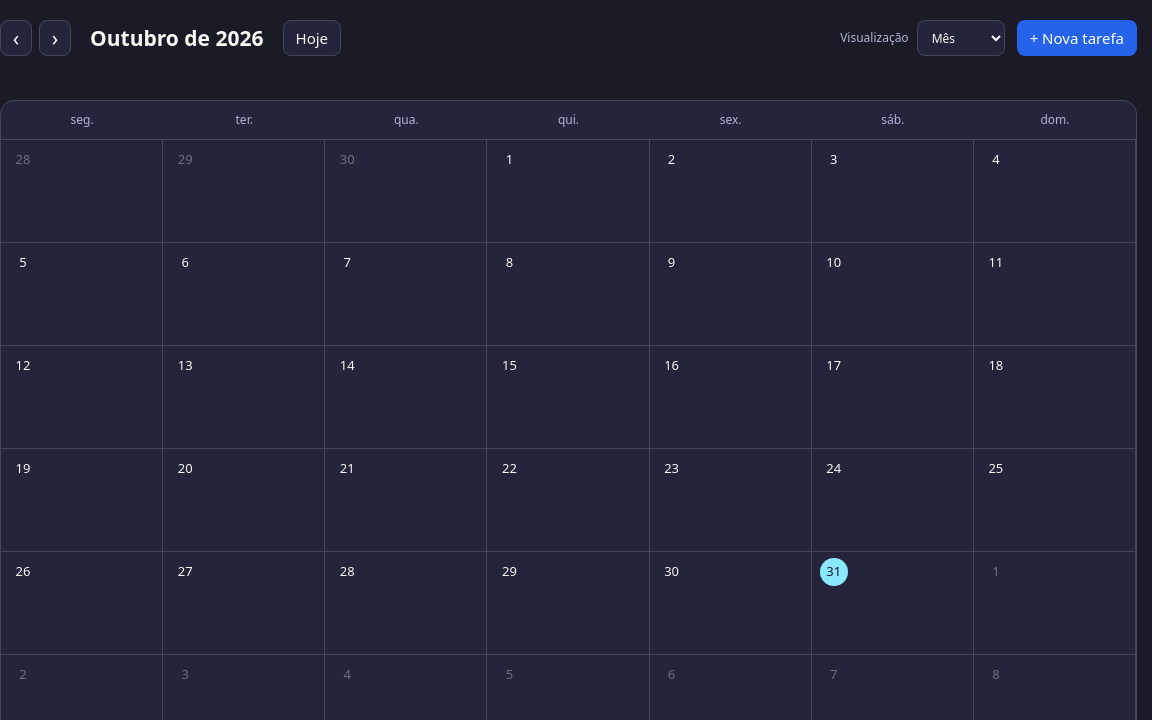
Scenario: calendário usa apenas tarefas unificadas e abre o editor compacto a partir do dia
Click the button named "Criar tarefa em 15/10/2026" at [509, 366], box [495,352,523,380]
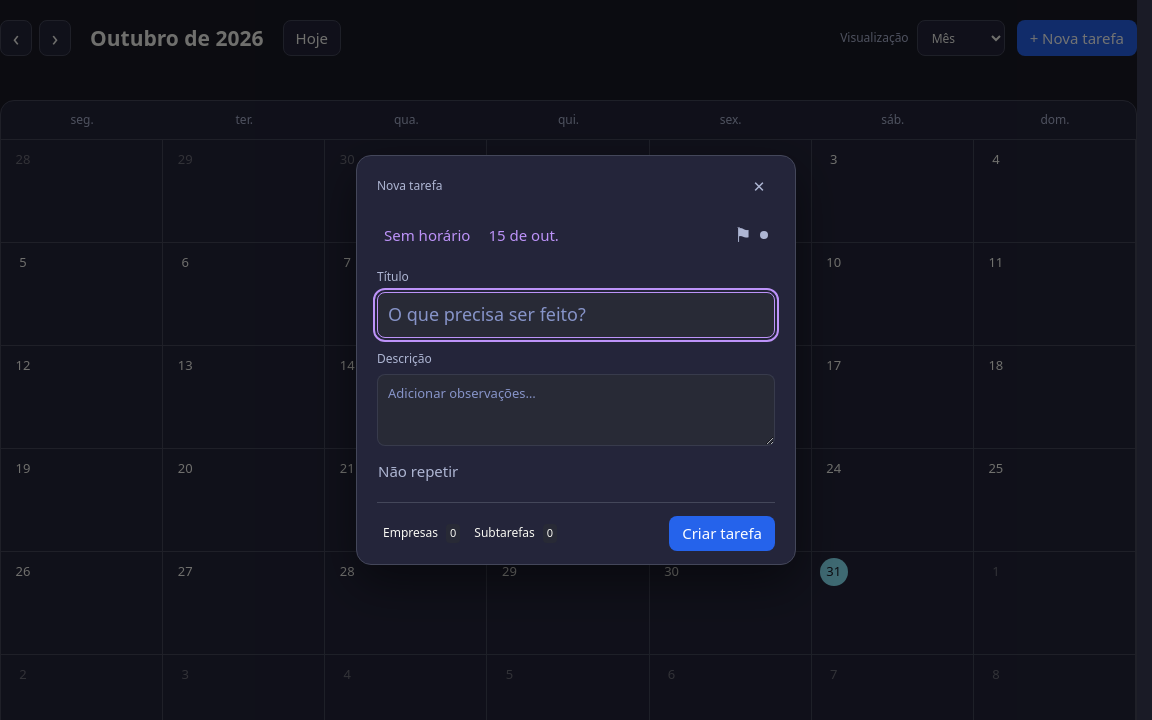
Result: the dialog shows "Nova tarefa" at [377,177,442,194]
Result: the button with aria-label "Data e repetição" shows "15" at [481,218,566,253]
